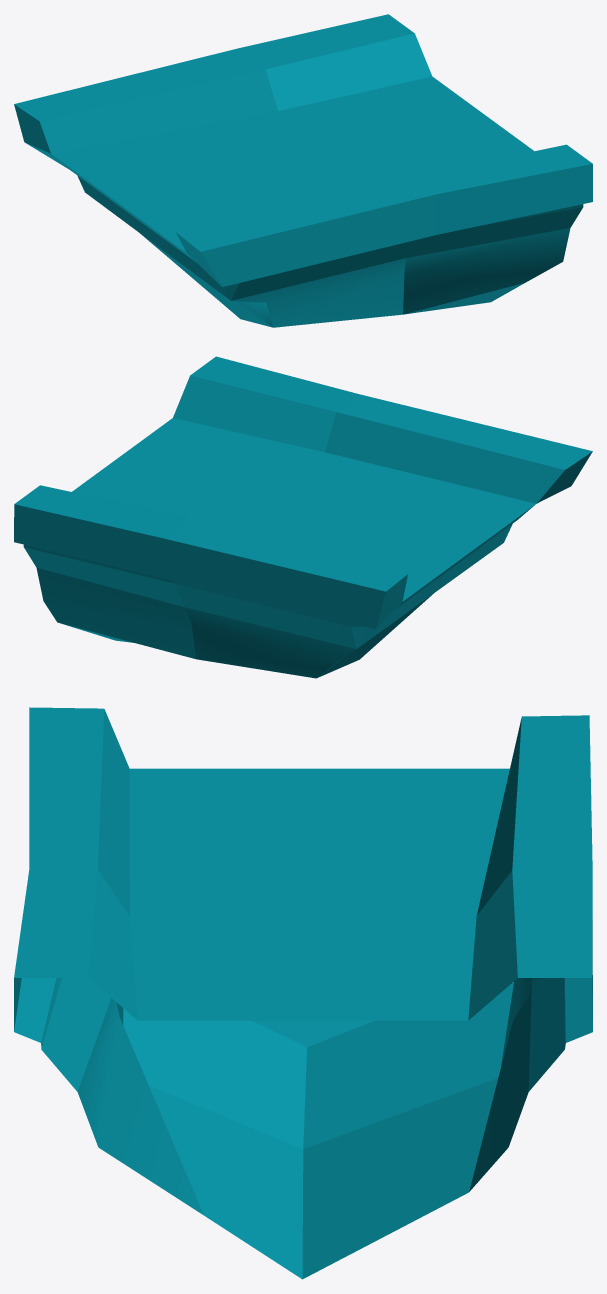
The model's file is Sml_End_Cap_R_NoC.fbx.
3 renders of one model, top to bottom at view 1: azimuth 30°, elevation 25°; view 2: azimuth 150°, elevation 25°; view 3: azimuth 270°, elevation 25°, orthographic. The views are drawn at different scales.
Visible parts, largest first — view 1: Sml_End_Cap_R_No_C; view 2: Sml_End_Cap_R_No_C; view 3: Sml_End_Cap_R_No_C.
Part boxes in pixels (x1,y1,x2,y2): Sml_End_Cap_R_No_C: (14,14,592,327); Sml_End_Cap_R_No_C: (14,356,592,678); Sml_End_Cap_R_No_C: (14,707,592,1279).
Size of the model in its own units: 1.42 by 0.7536 by 1.3.
